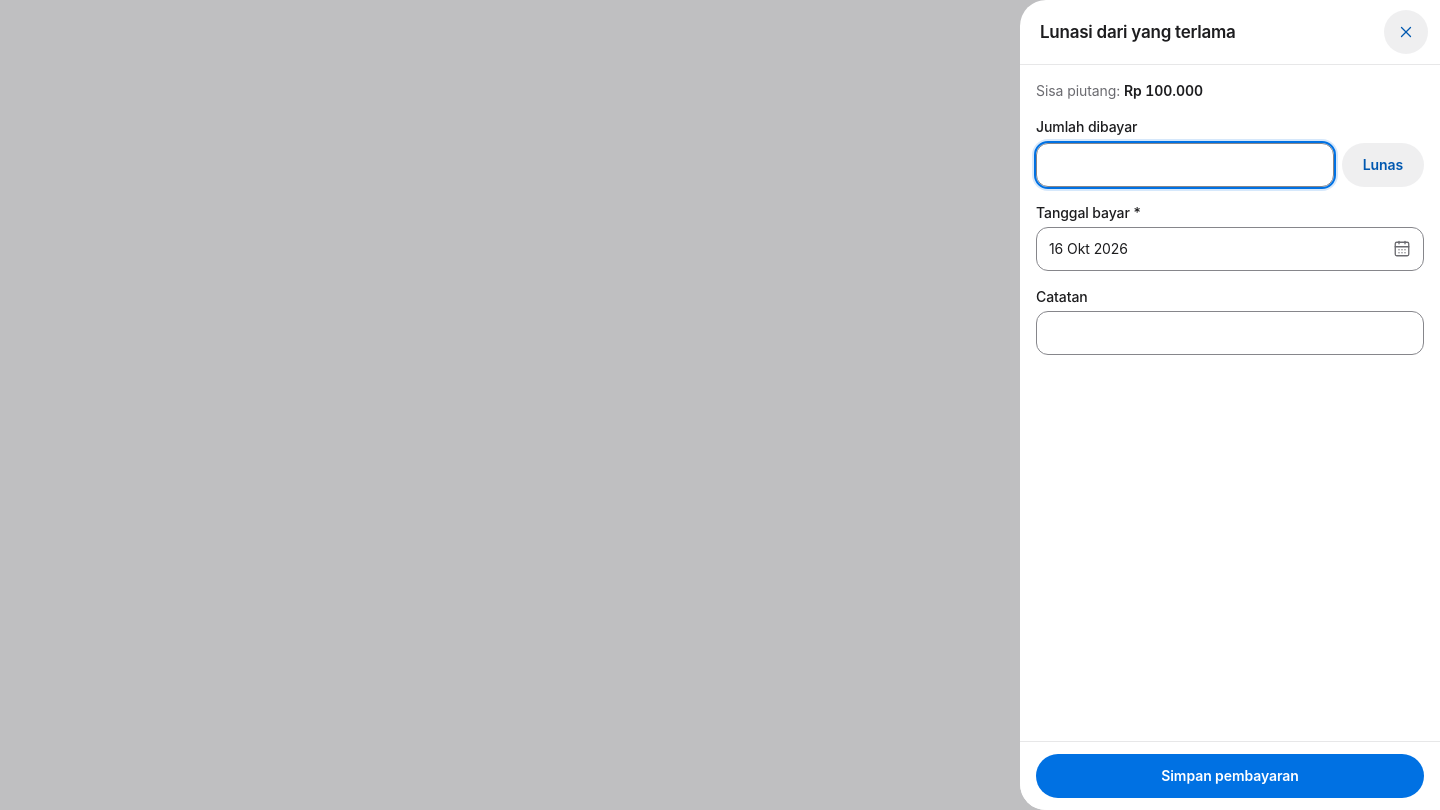
Test case: CatatPembayaranSheet: oldest first › rejects more than the total owed
Type "100001" into the field labelled "Jumlah dibayar" at (1185,165), box [1036,143,1334,187]
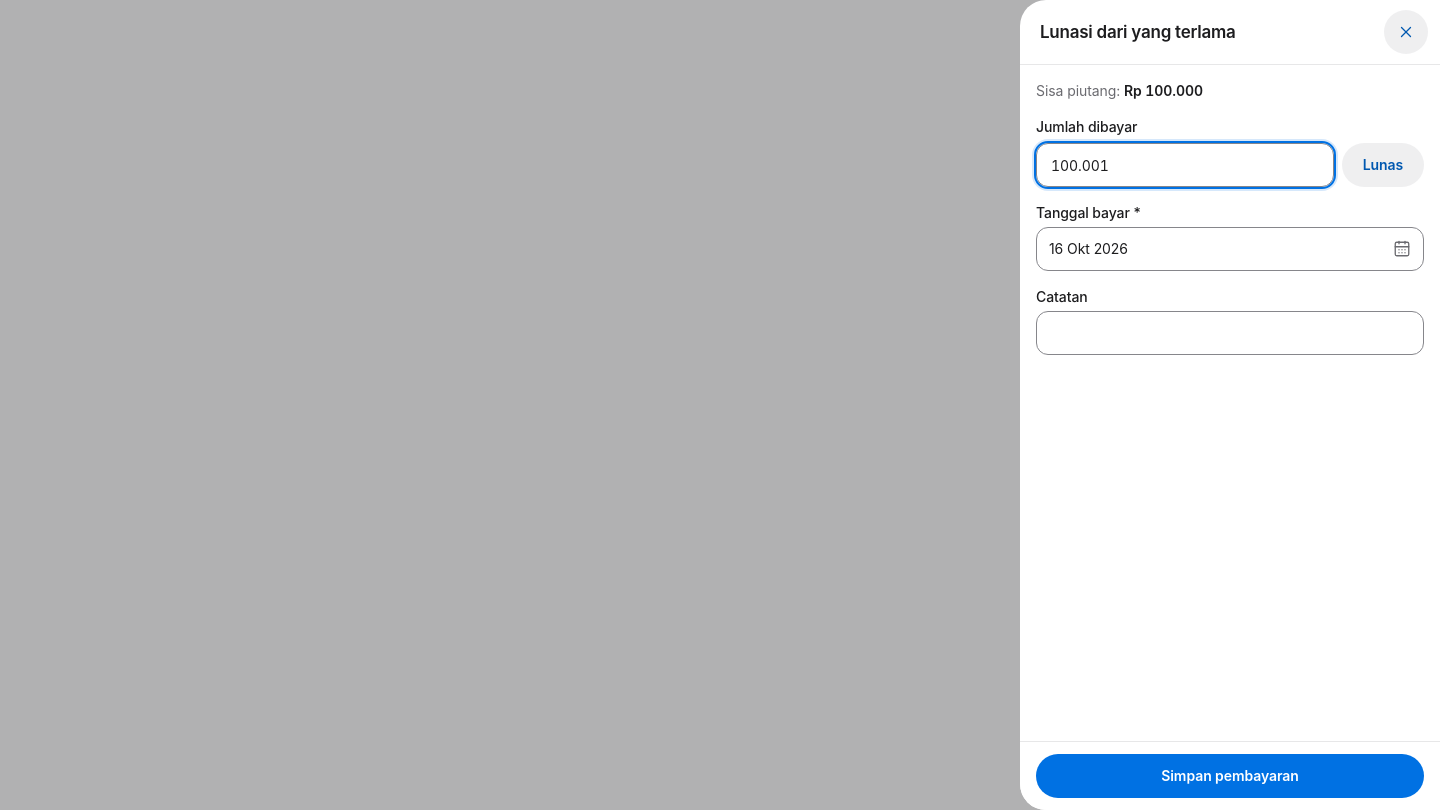
Click the button "Simpan pembayaran" at (1230,776), box [1036,754,1424,798]
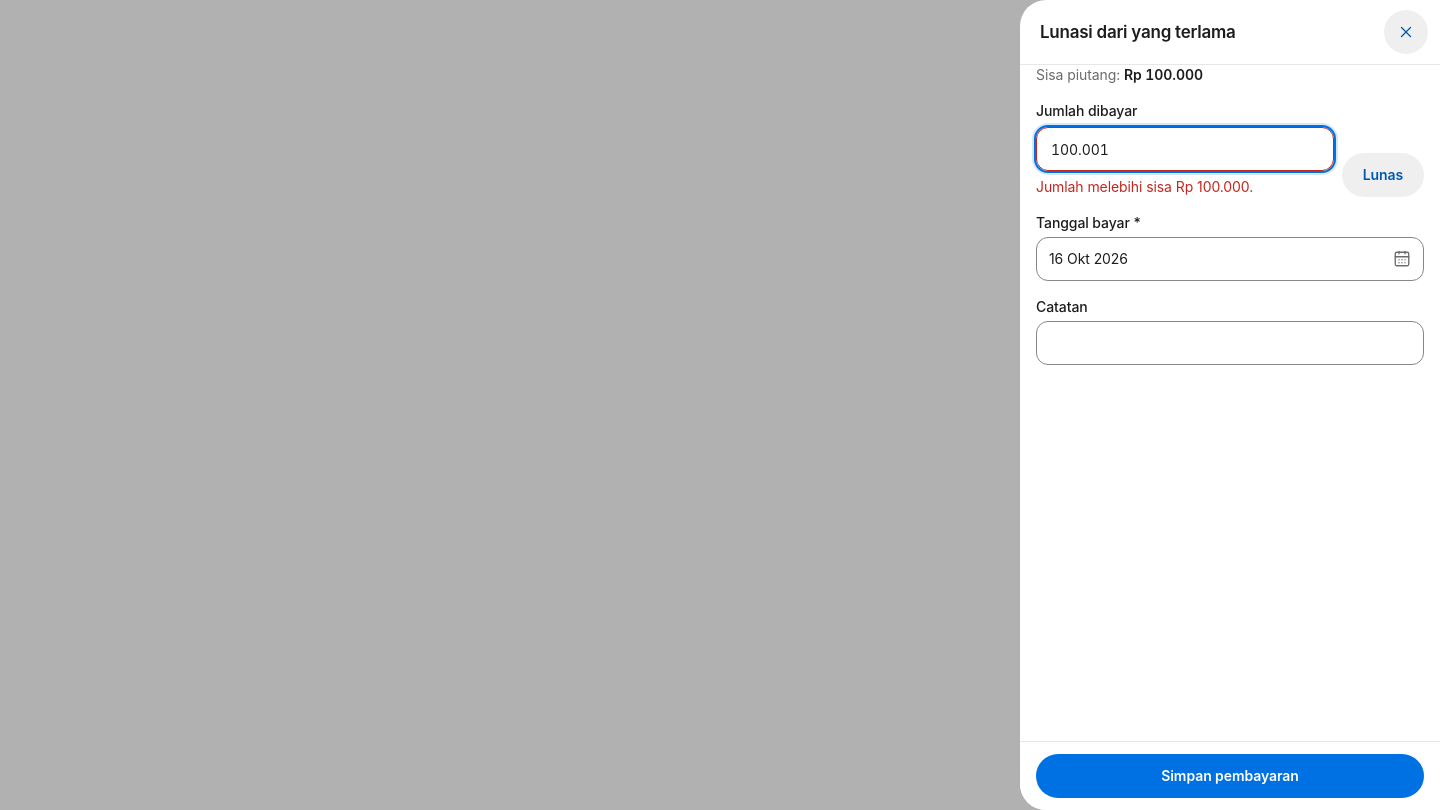
Check: the text "Jumlah melebihi sisa Rp 100.000." is shown, box [1036,178,1253,195]
